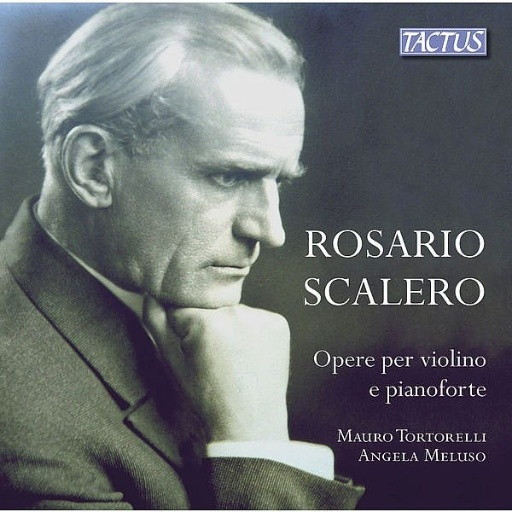hand: (40, 261, 333, 509)
